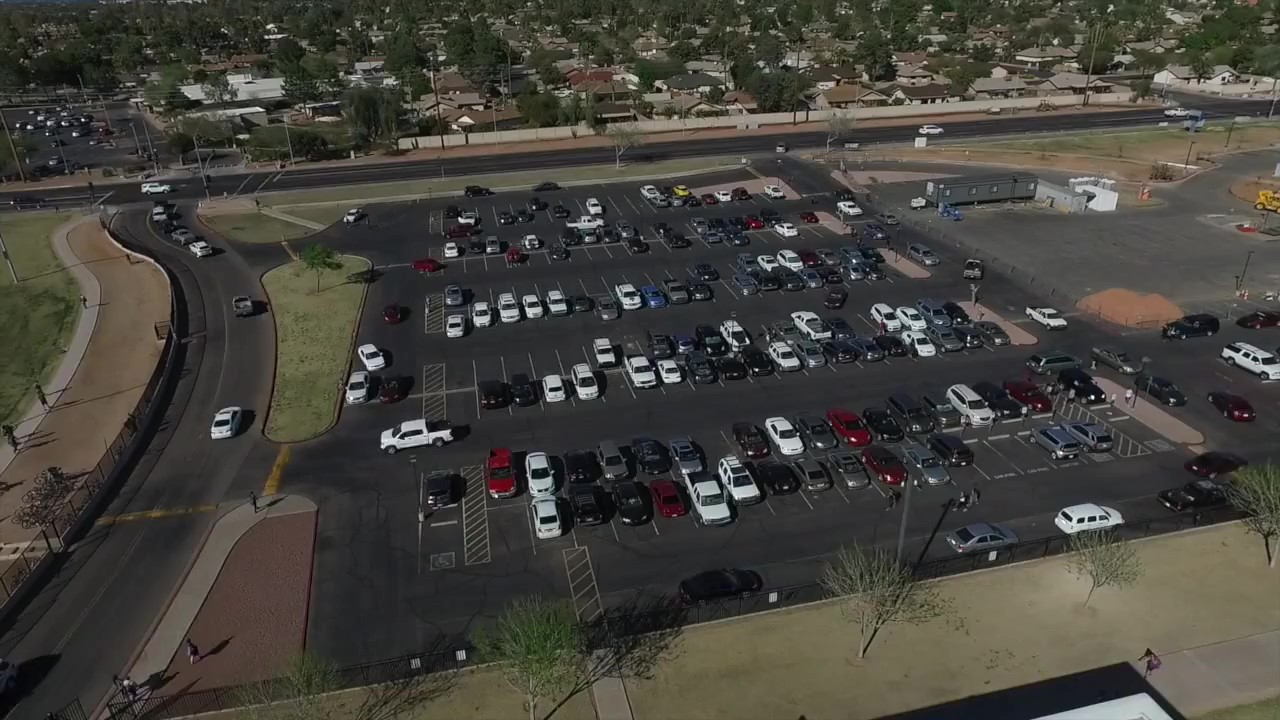car: (922, 431, 984, 485), (894, 444, 952, 495), (682, 475, 733, 532), (1061, 409, 1125, 453), (481, 506, 530, 561), (718, 460, 763, 516), (755, 457, 800, 512), (1029, 416, 1084, 461), (790, 455, 838, 506), (961, 436, 1016, 479), (820, 450, 878, 490), (567, 487, 611, 536), (644, 481, 690, 526), (529, 495, 567, 546), (851, 448, 901, 486), (611, 485, 645, 534), (991, 431, 1026, 465)
